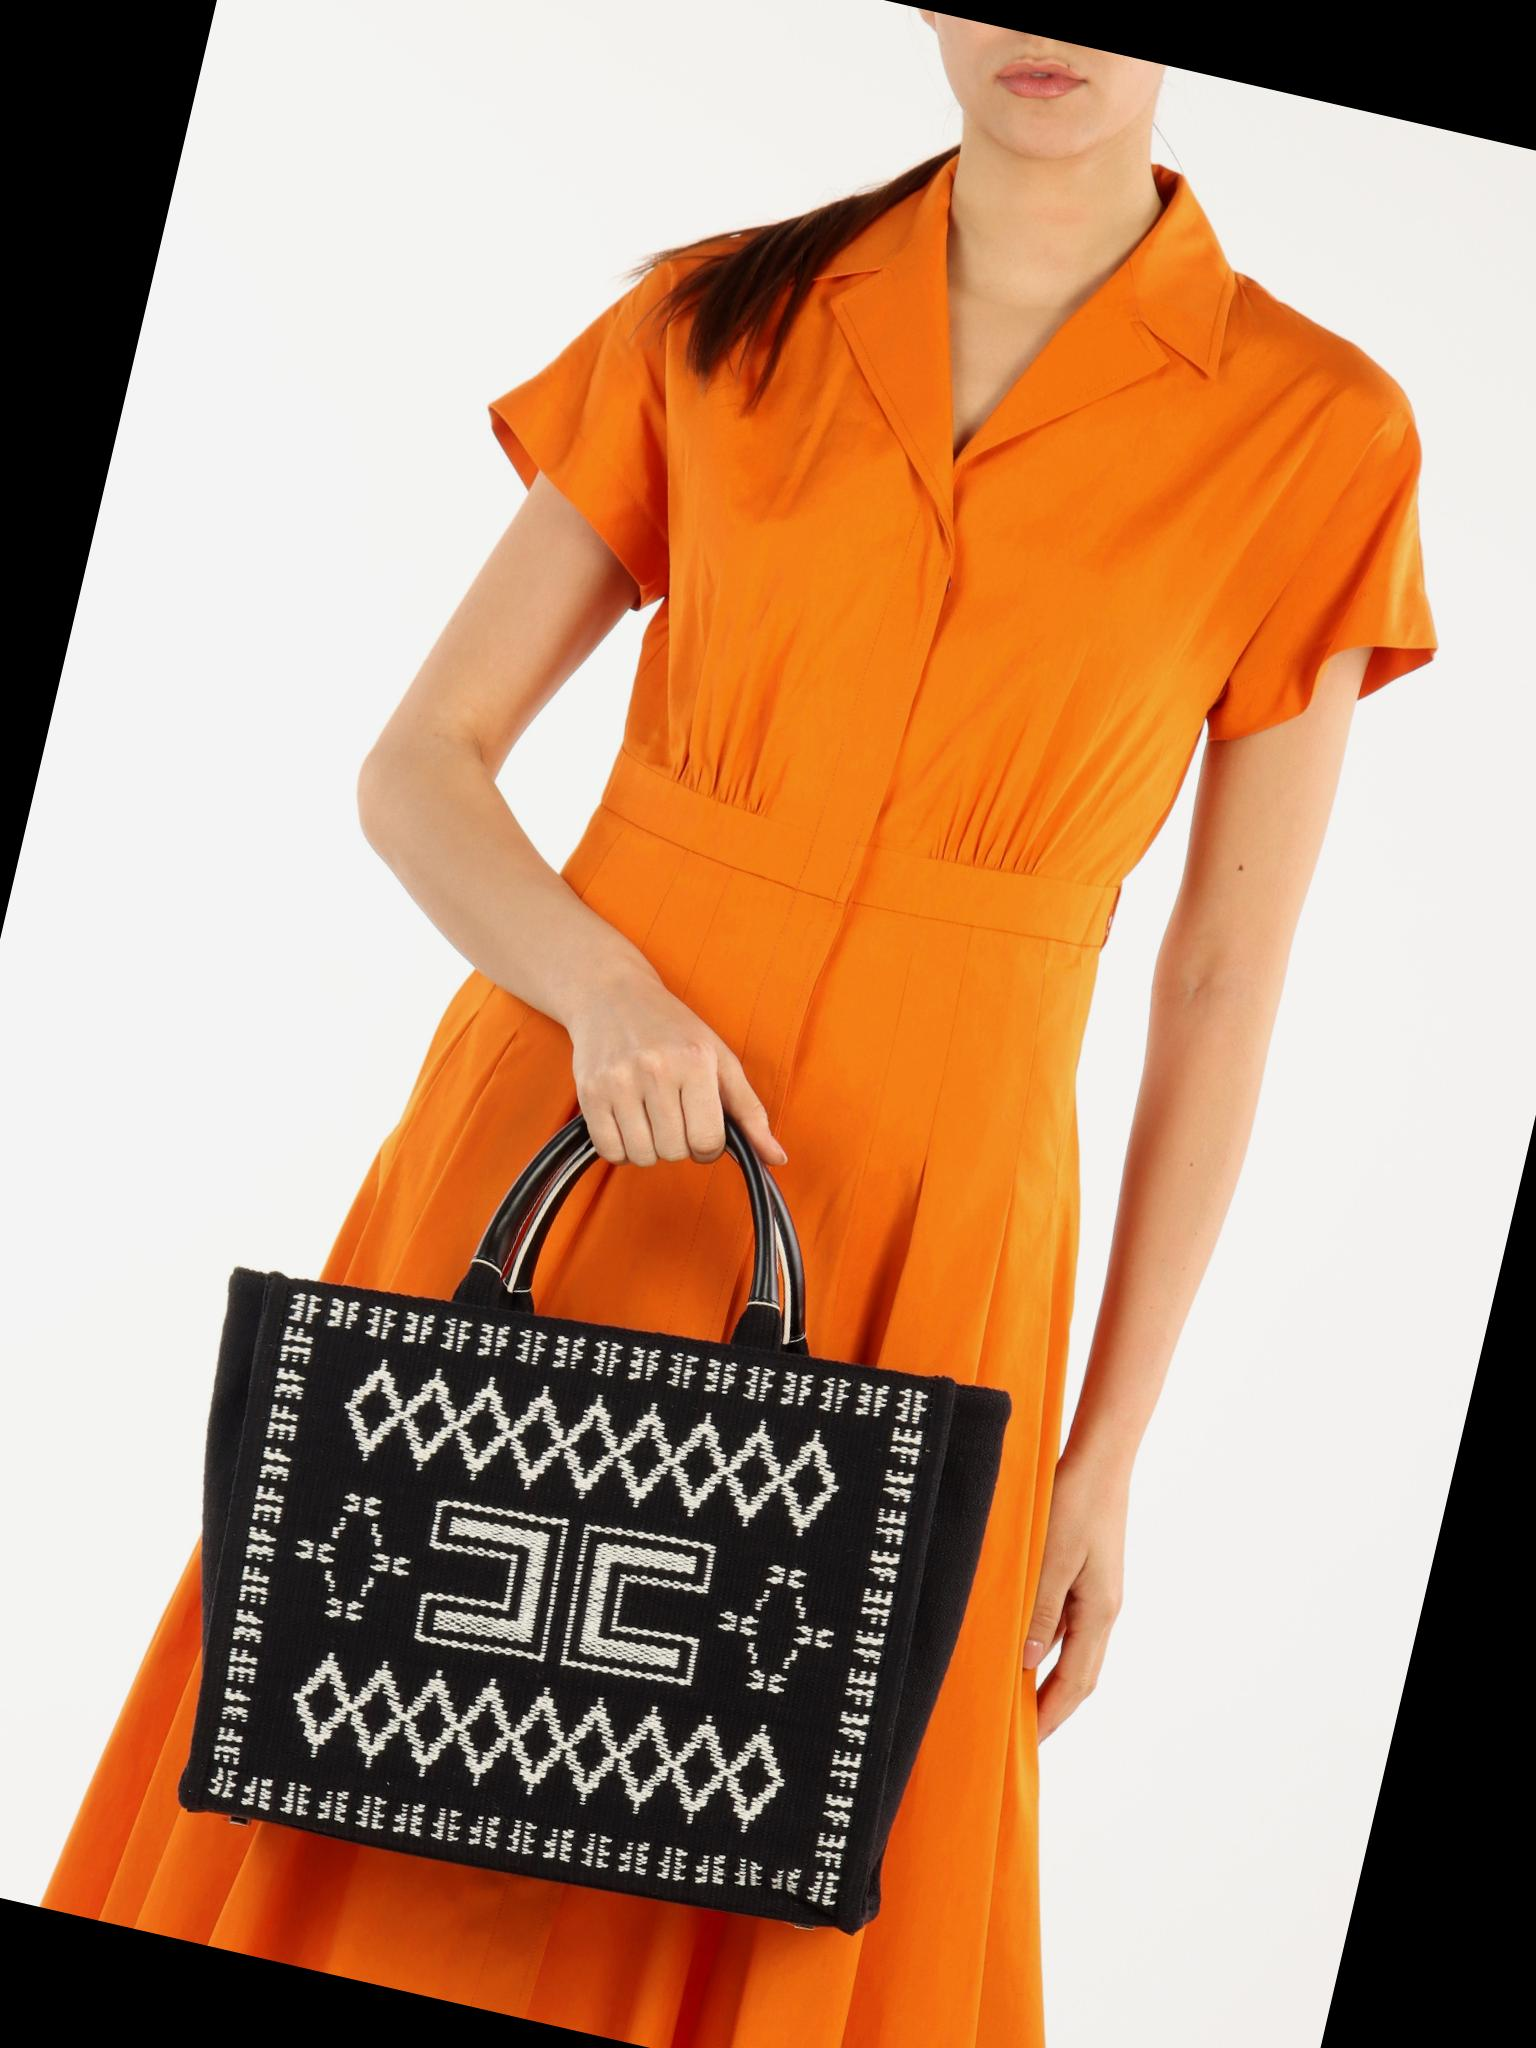ELISABETTA-FRANCHI: (369, 1437, 770, 1732)
